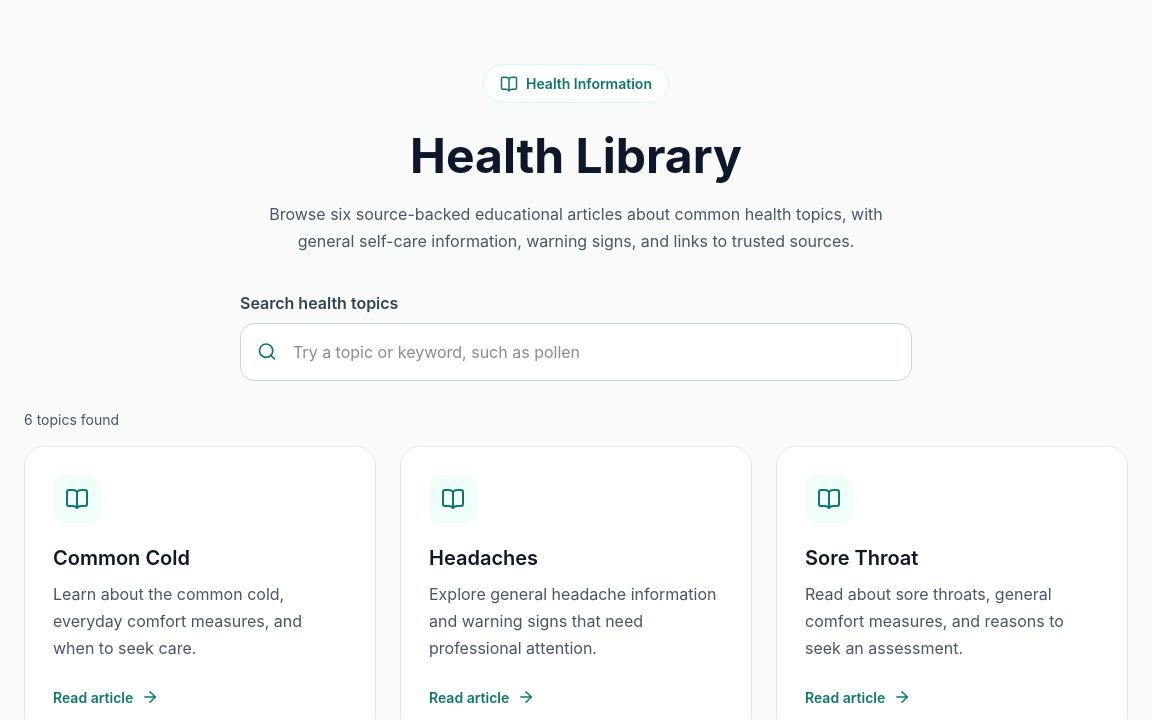
Test case: Health Library browsing › filters search professional attention to Headaches
Type "professional attention" into the search field labelled "Search health topics" at (592, 352), box top-left (289, 336), bottom-right (895, 368)
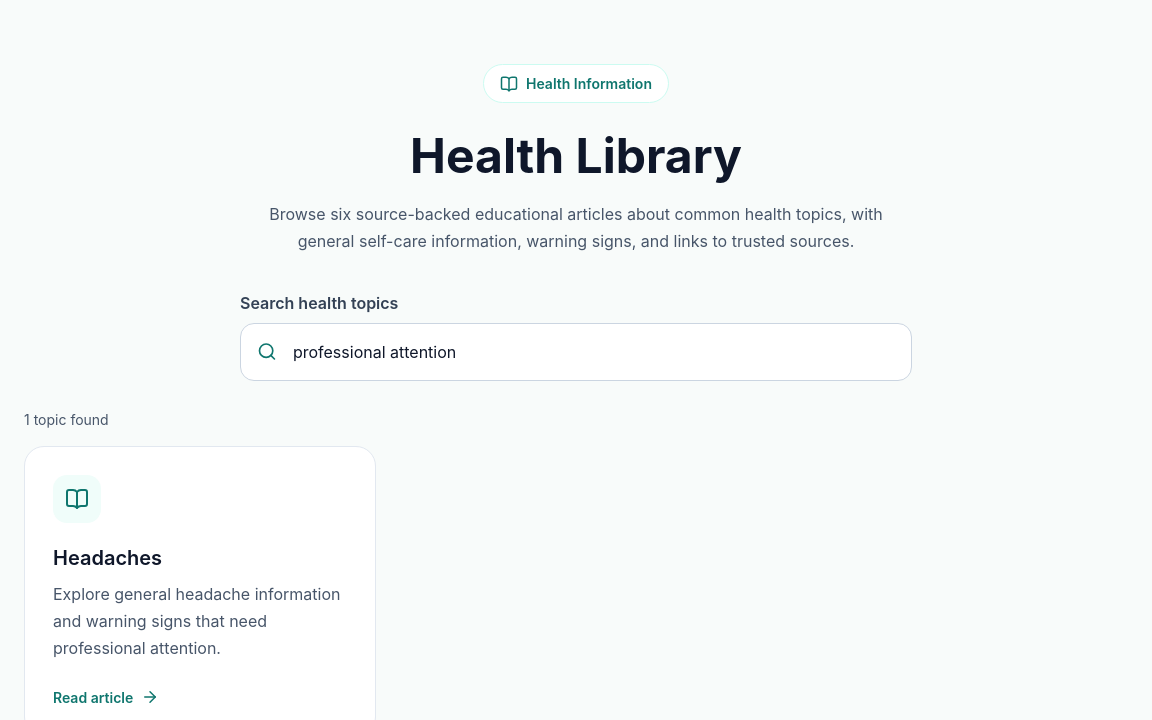
Check: the heading "Headaches" is shown, box top-left (53, 546), bottom-right (162, 570)
Check: the message reads "1 topic found", box top-left (24, 411), bottom-right (109, 428)
